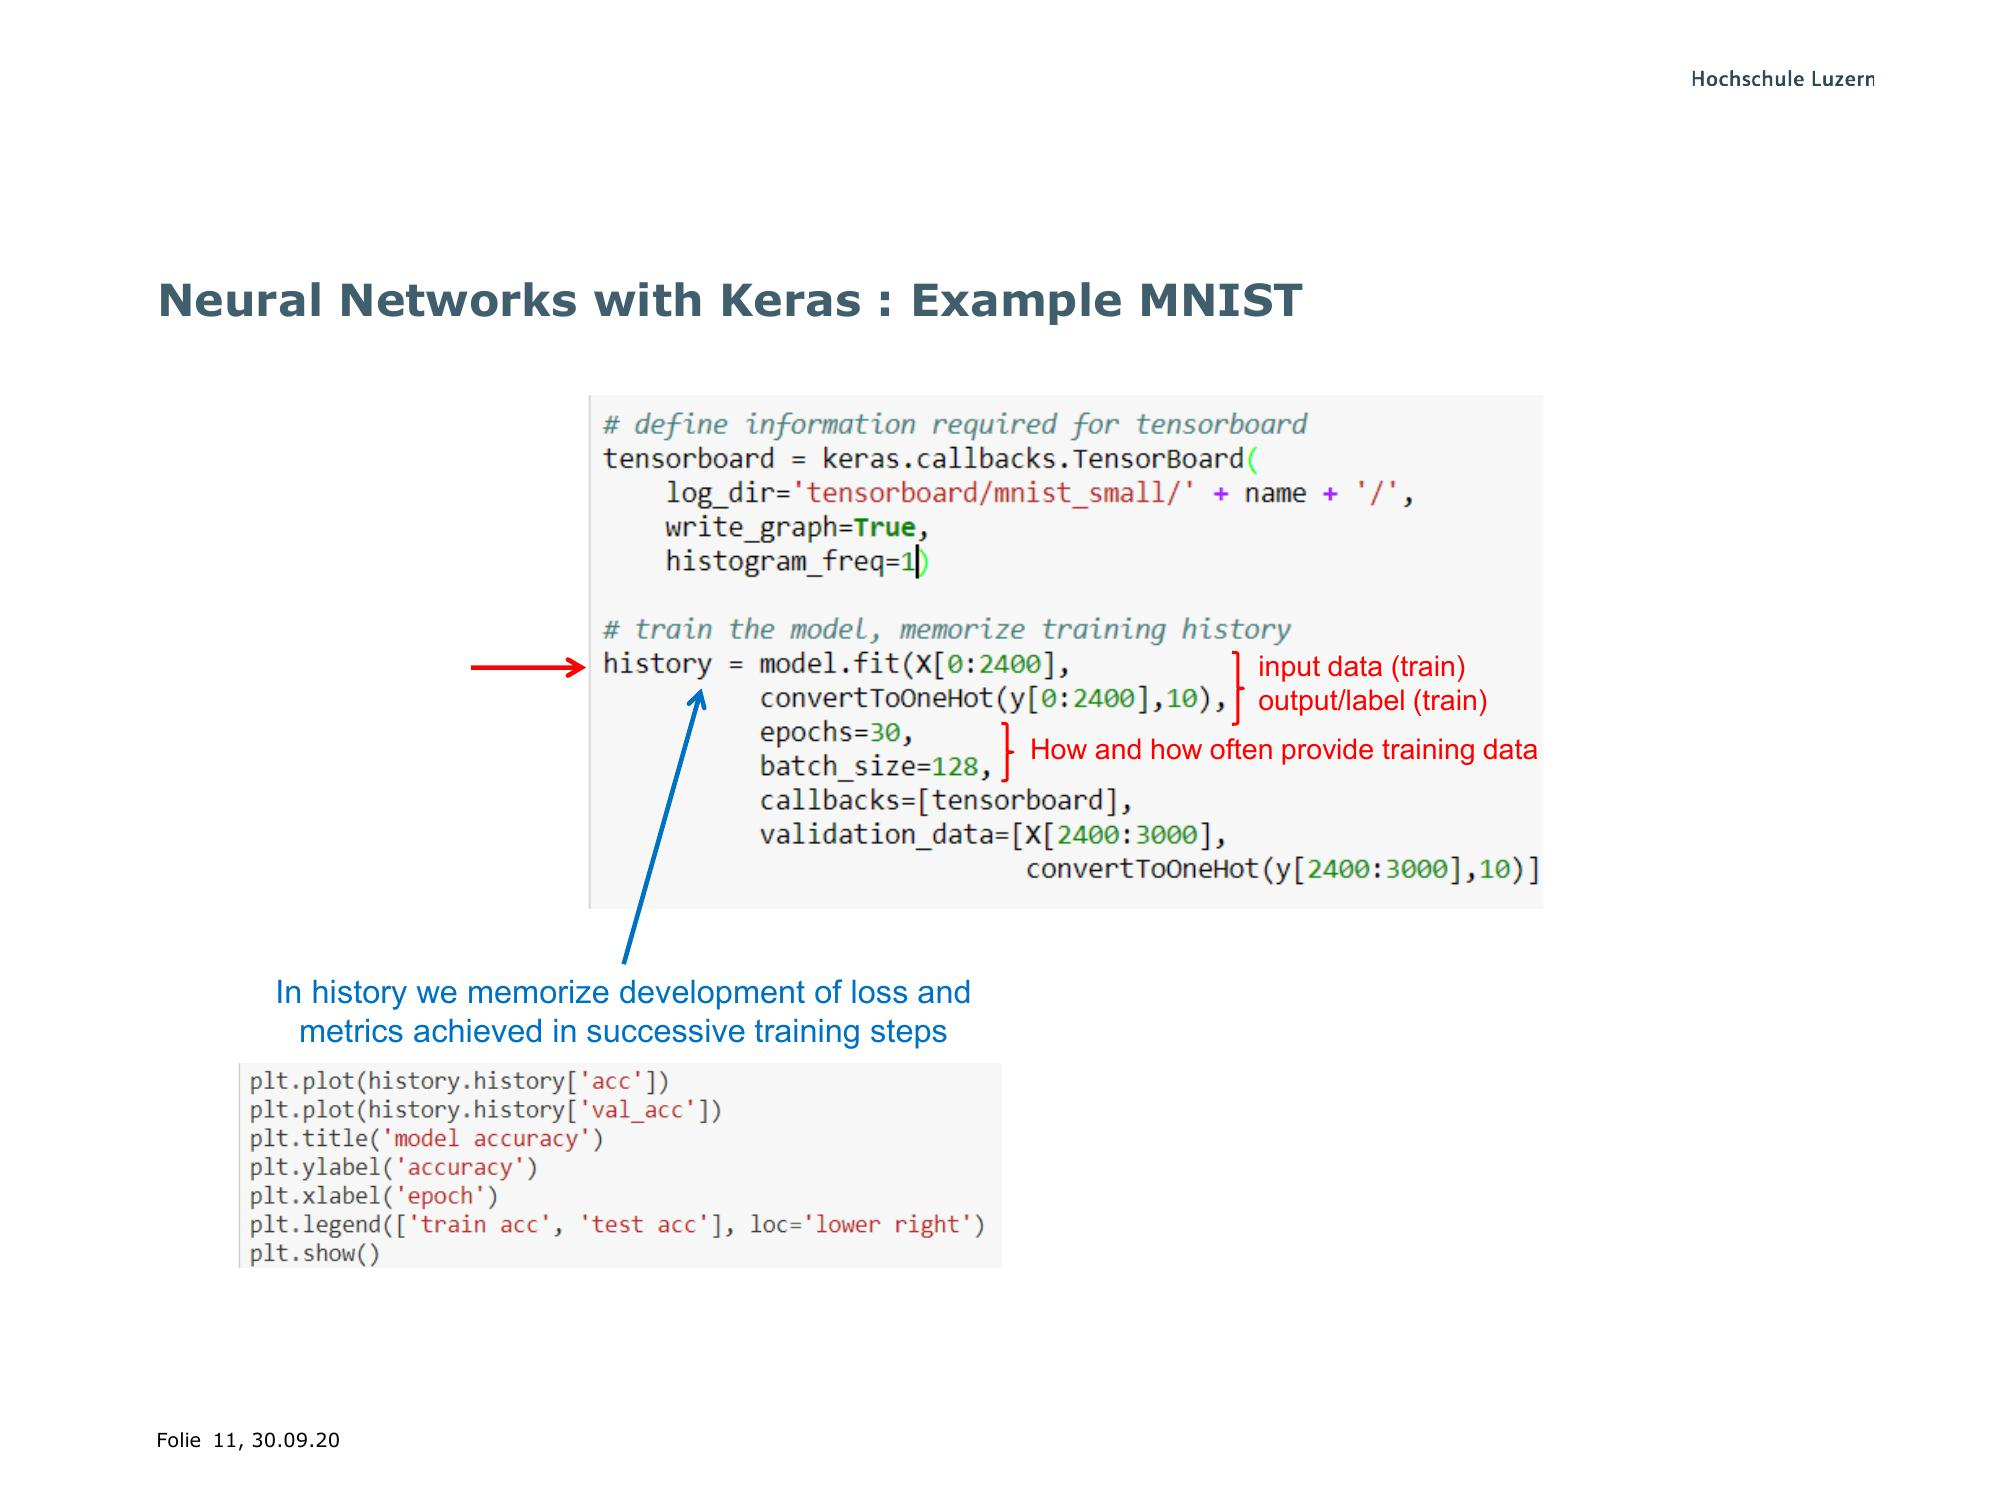Title: (124, 258, 1313, 331)
